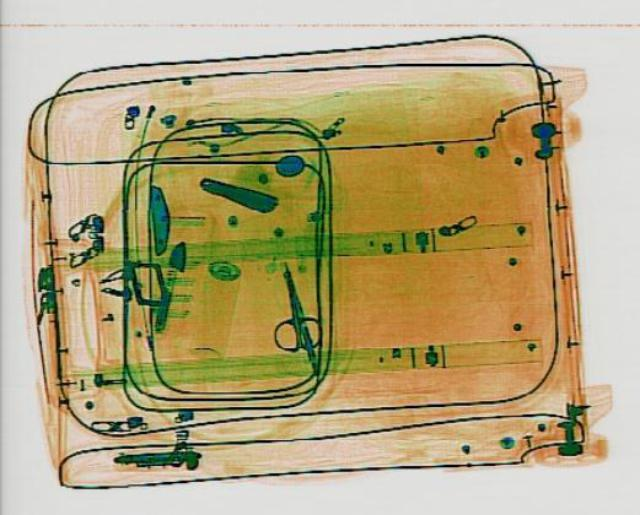Scissors: (260, 269, 324, 350)
